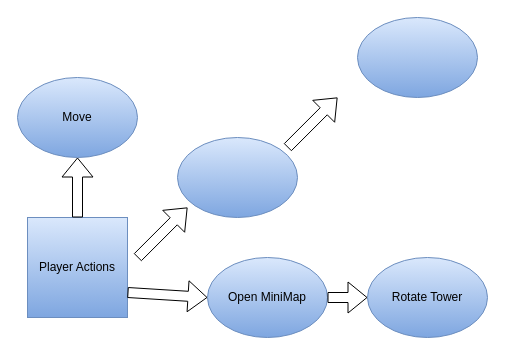
This 505x355 diagram has some shape labels left out. Here are the shapes that lost their labels. From the top down, the box of each, then its label:
(356, 16, 478, 98): Push
(176, 136, 298, 218): Interact
